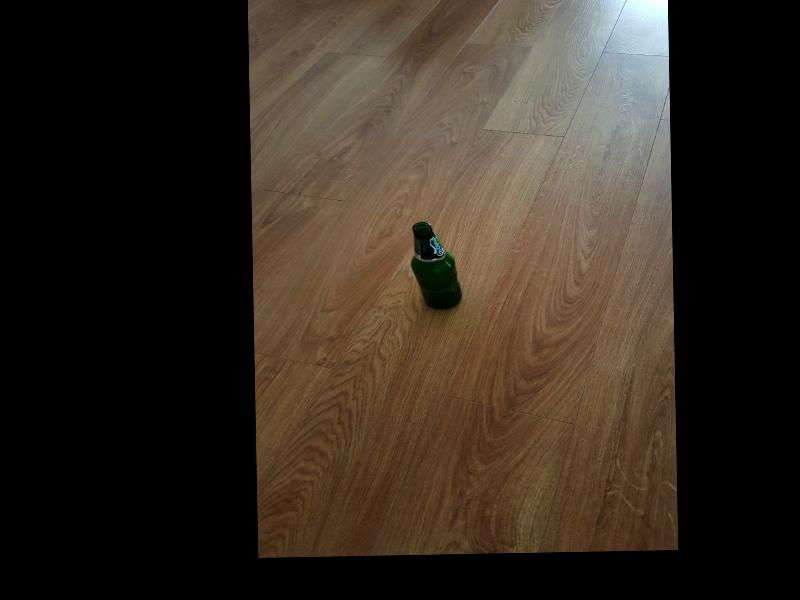Beer: (409, 220, 462, 310)
